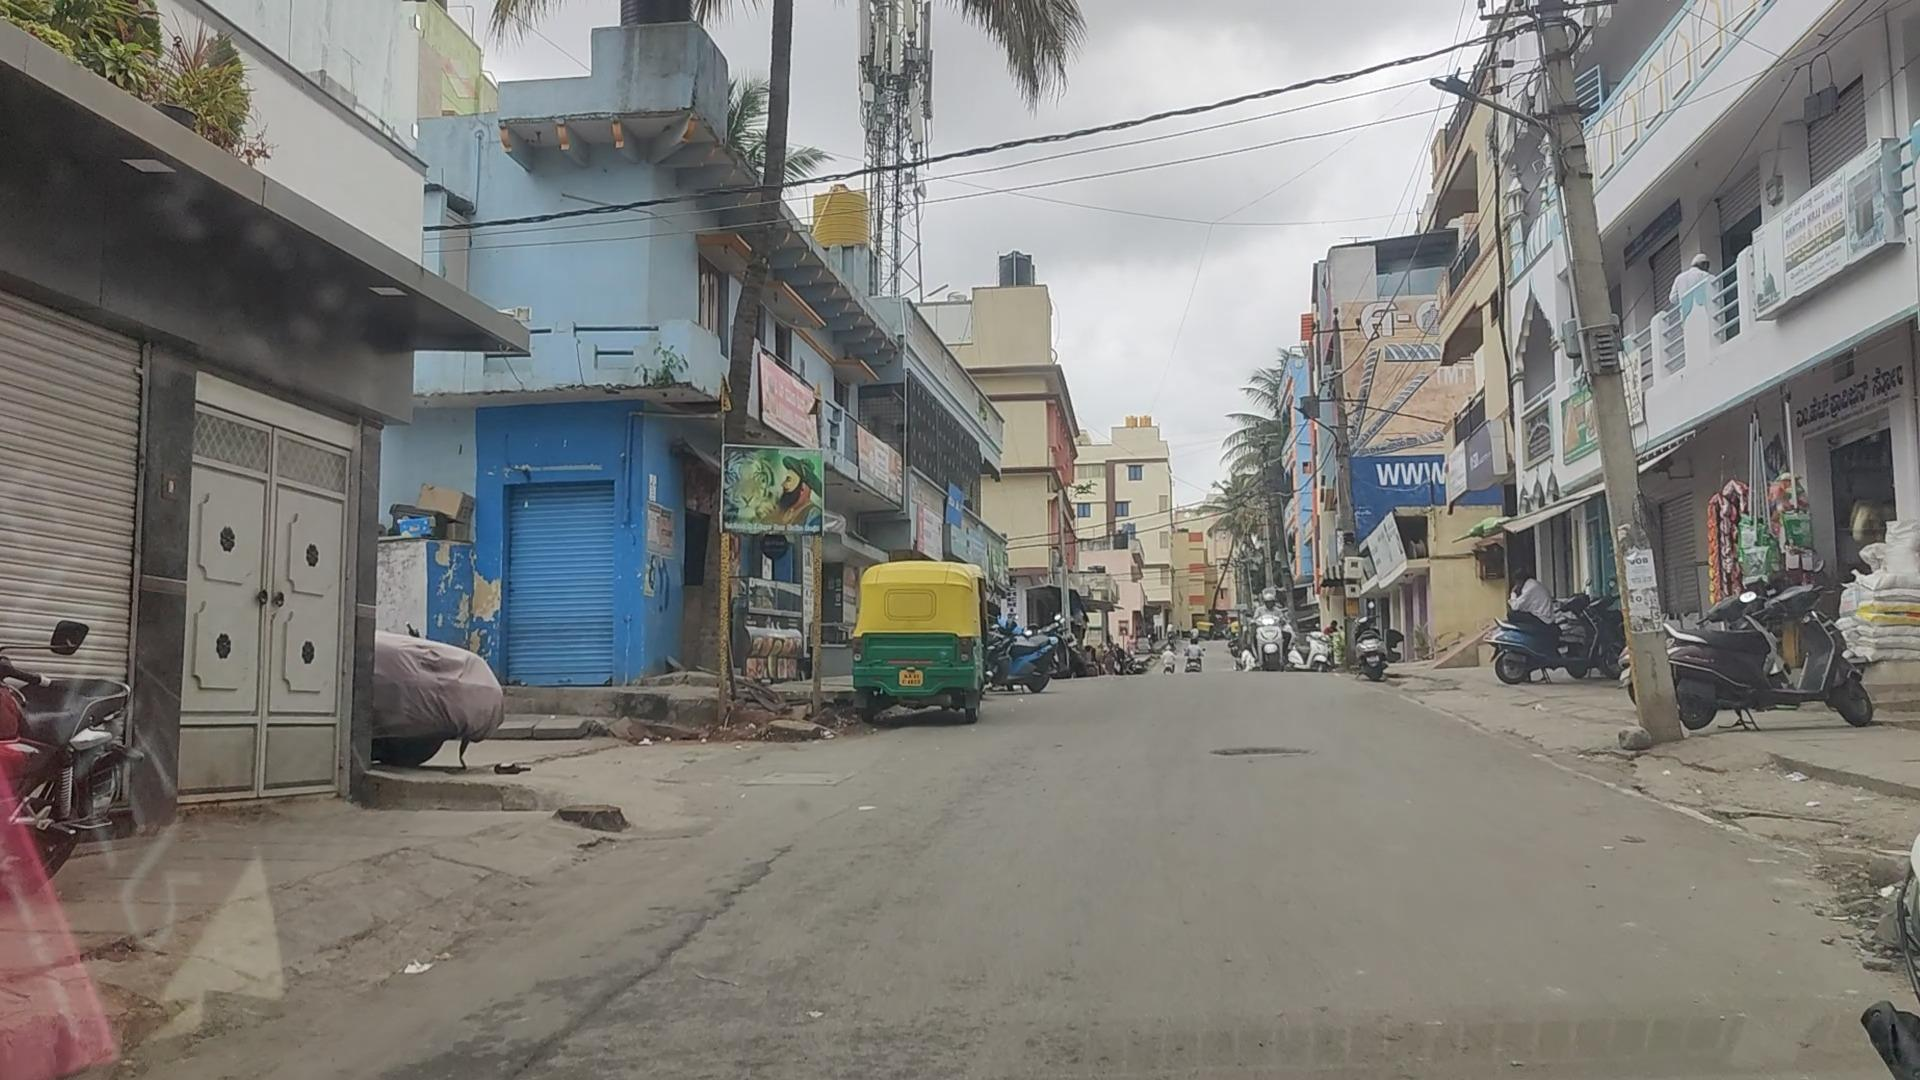RoadDamages: (535, 945, 690, 1065), (695, 827, 802, 926), (1211, 725, 1323, 781), (748, 761, 853, 793)
